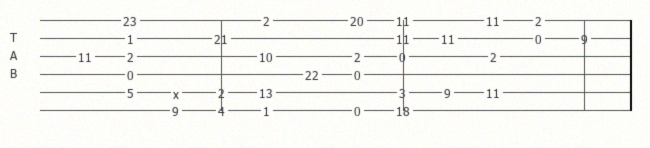0: (127, 68, 138, 81), (354, 104, 365, 117), (354, 68, 365, 81), (399, 50, 410, 63), (535, 32, 546, 45)
1: (127, 32, 138, 45), (263, 104, 274, 117)
10: (259, 50, 277, 63)
11: (78, 50, 96, 63), (396, 14, 414, 27), (396, 32, 414, 45), (441, 32, 459, 45), (486, 14, 504, 27), (486, 86, 504, 99)
13: (259, 86, 277, 99)
18: (396, 104, 414, 117)
2: (127, 50, 138, 63), (218, 86, 229, 99), (263, 14, 274, 27), (354, 50, 365, 63), (490, 50, 501, 63), (535, 14, 546, 27)
20: (350, 14, 368, 27)
21: (214, 32, 232, 45)
22: (305, 68, 323, 81)
23: (123, 14, 141, 27)
3: (399, 86, 410, 99)
4: (218, 104, 229, 117)
5: (127, 86, 138, 99)
9: (172, 104, 183, 117), (444, 86, 455, 99), (581, 32, 592, 45)
x: (173, 87, 183, 98)
